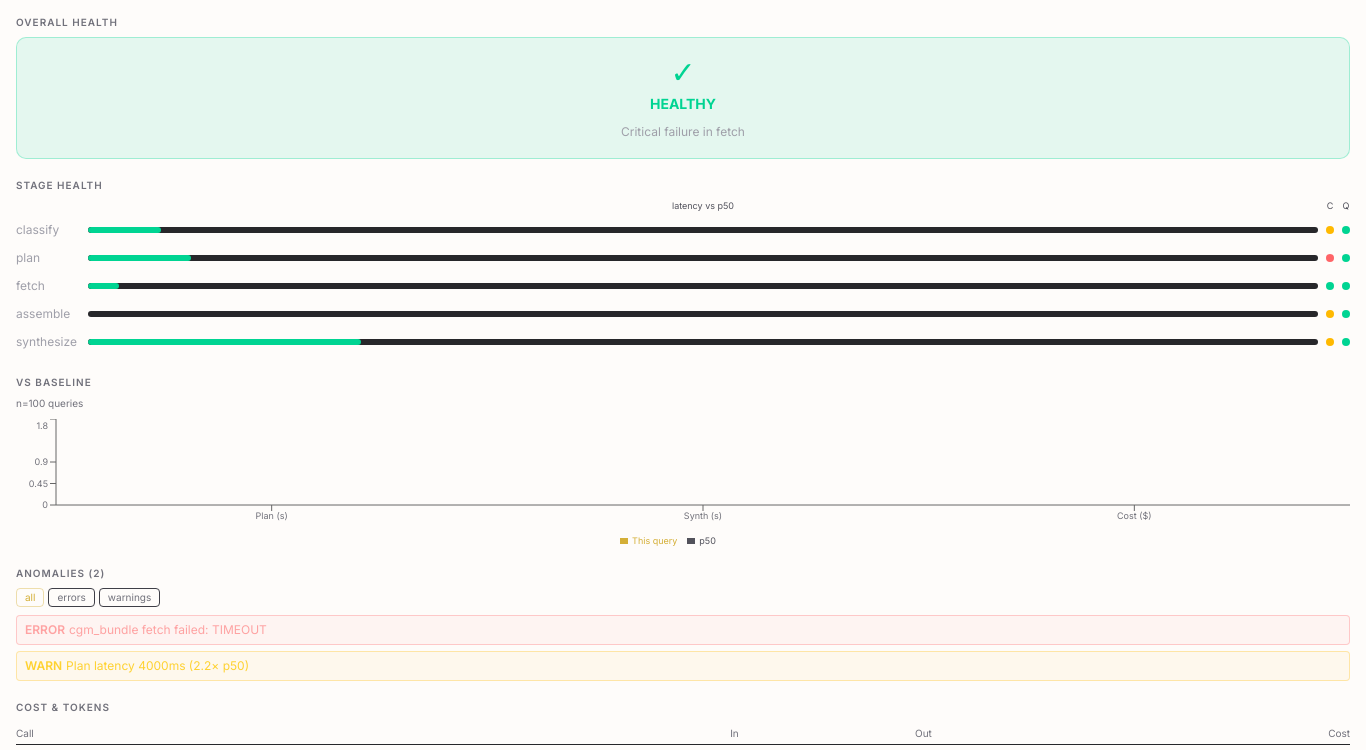
Scenario: HealthRail › anomaly filter "warnings" hides errors
Click the tab "warnings" at (130, 598), box x1=99 y1=588 x2=160 y2=607
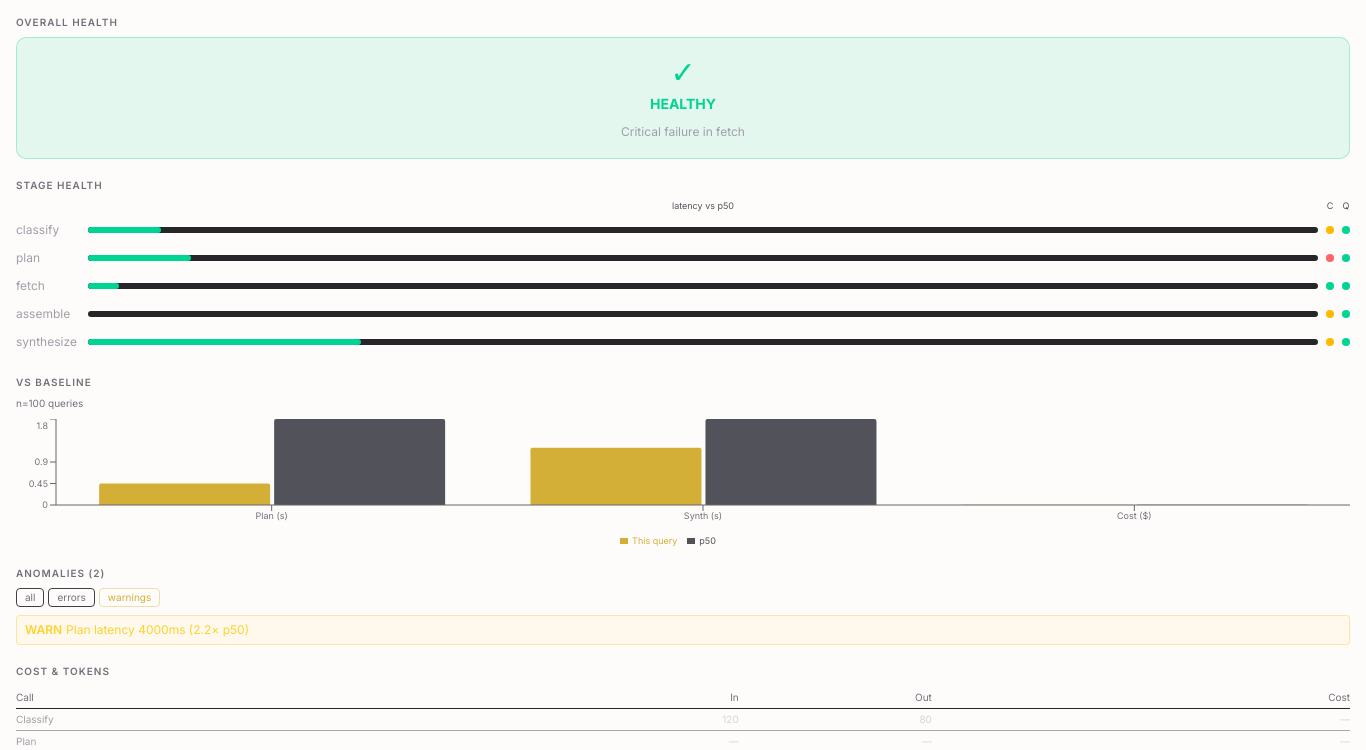
Expected: the button "Plan latency" is shown, x1=16 y1=616 x2=1350 y2=646
Expected: the button "cgm_bundle fetch failed" is gone
